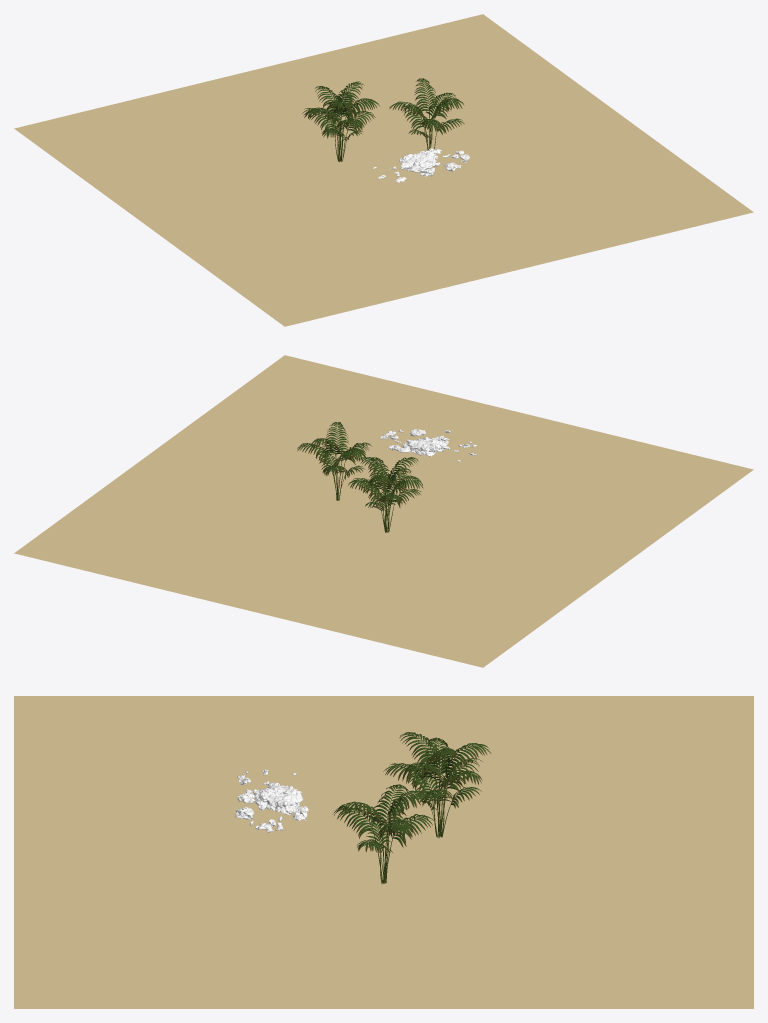
The model's file is playa.glb.
The picture shows the model from 3 angles, top to bottom: view 1: azimuth 30°, elevation 25°; view 2: azimuth 150°, elevation 25°; view 3: azimuth 270°, elevation 25°; orthographic projection. The views are drawn at different scales.
Parts seen in each view (by area): view 1: Terrain_Arena, Howea_f__A001, Howea_f__A002, Cloud Polygon Blender 1; view 2: Terrain_Arena, Howea_f__A001, Howea_f__A002, Cloud Polygon Blender 1; view 3: Terrain_Arena, Howea_f__A001, Howea_f__A002, Cloud Polygon Blender 1.
Boxes of the visible parts, x1,y1,x2,y2 form: Terrain_Arena: (14,14,753,326); Howea_f__A001: (302,81,379,162); Howea_f__A002: (389,78,464,150); Cloud Polygon Blender 1: (372,148,470,182); Terrain_Arena: (14,355,753,667); Howea_f__A001: (348,457,423,532); Howea_f__A002: (297,422,371,500); Cloud Polygon Blender 1: (380,429,477,461); Terrain_Arena: (14,696,753,1008); Howea_f__A001: (383,732,490,837); Howea_f__A002: (333,784,434,884); Cloud Polygon Blender 1: (235,769,308,832).
Size of what is drawn, in the model's own units: 4 by 0.6267 by 4.
4 materials, 2 textured.
